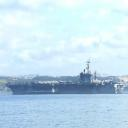Portanaves: (7, 59, 127, 96)
